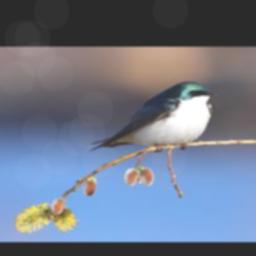Swallow: (89, 80, 219, 151)
